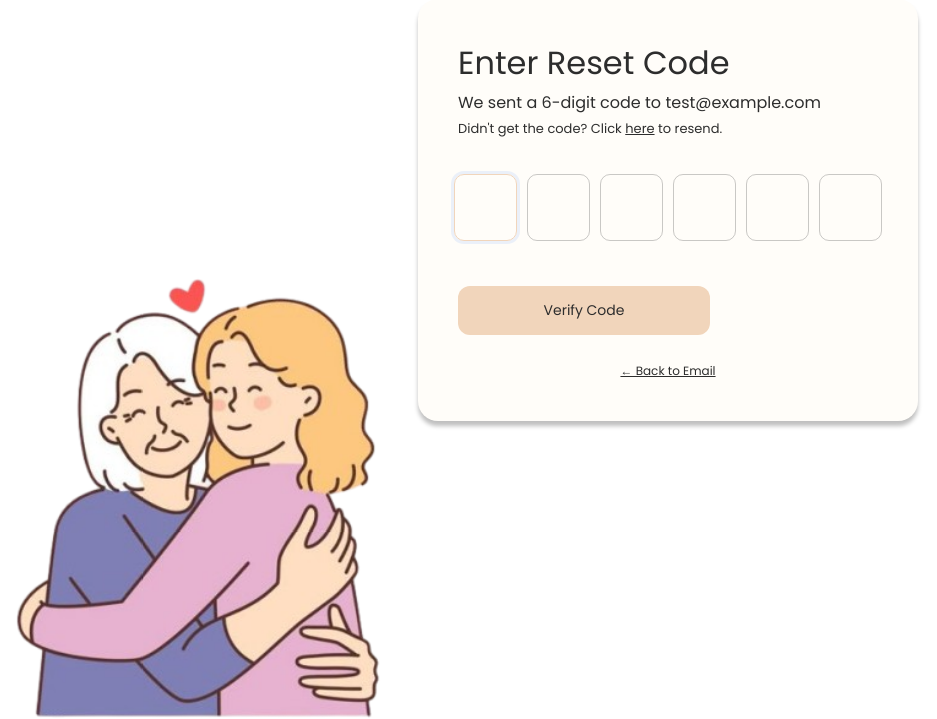
Scenario: ForgotPasswordOTP component › submits OTP and navigates to new password page on success
Type "1" into the 1st field. click: (486, 207)
box: [454,174,517,240]
Type "2" into the 2nd field. click: (558, 207)
box: [527,174,590,240]
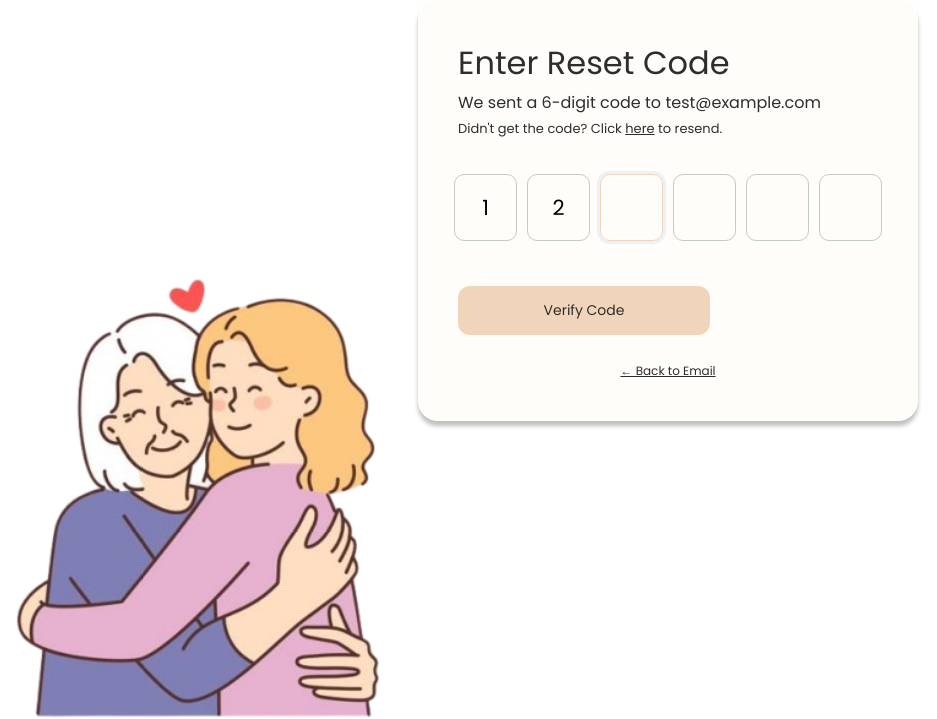
Type "3" into the 3rd field. click: (632, 207)
box: [600,174,663,240]
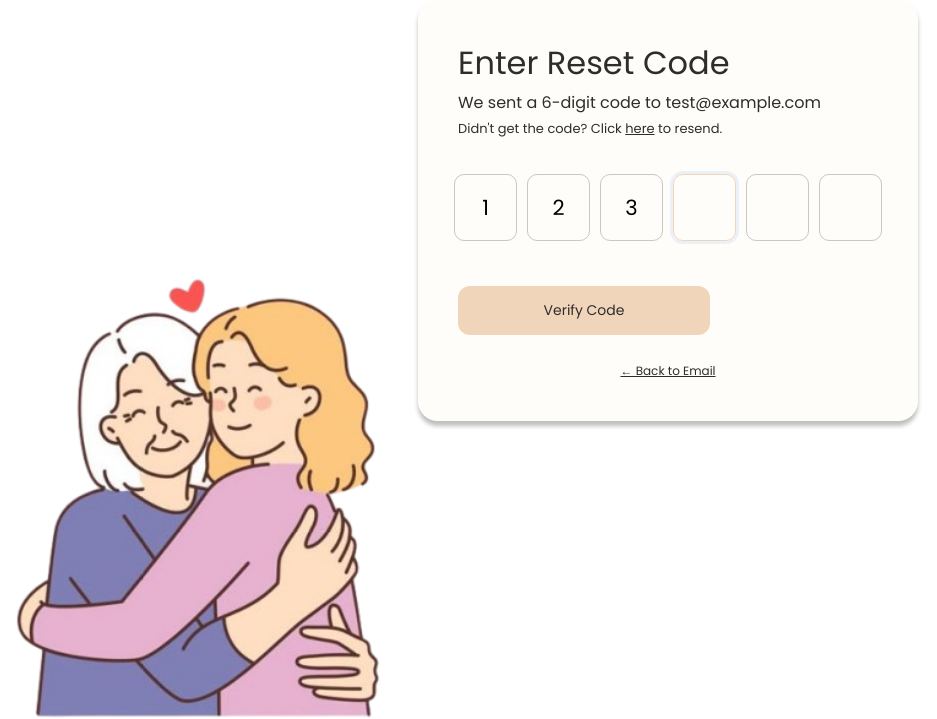
Type "4" into the 4th field. click: (704, 207)
box: [673,174,736,240]
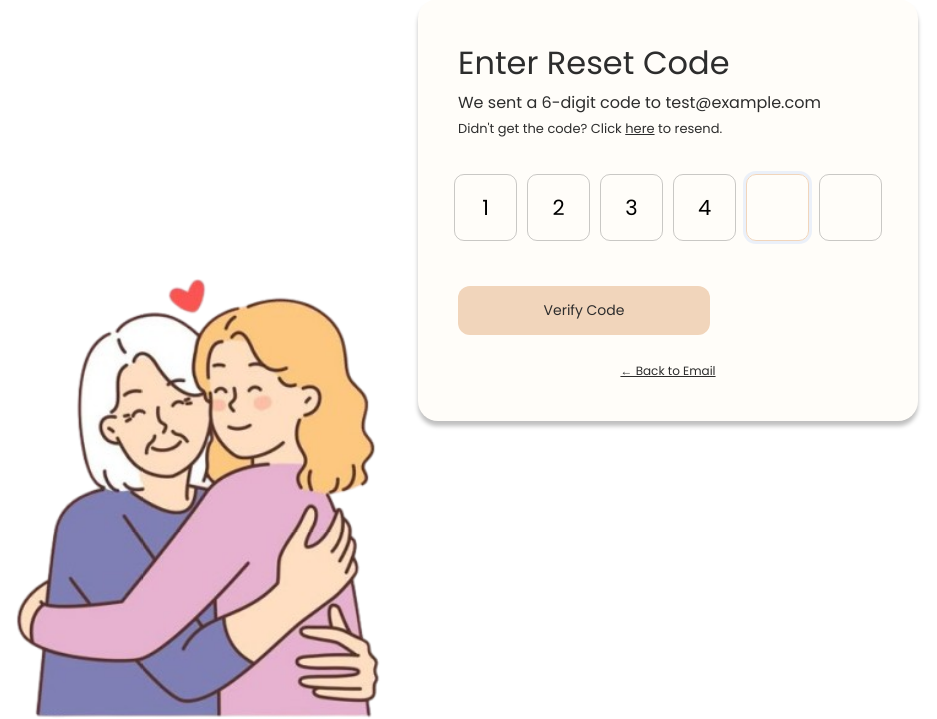
Type "5" into the 5th field. click: (778, 207)
box: [746,174,809,240]
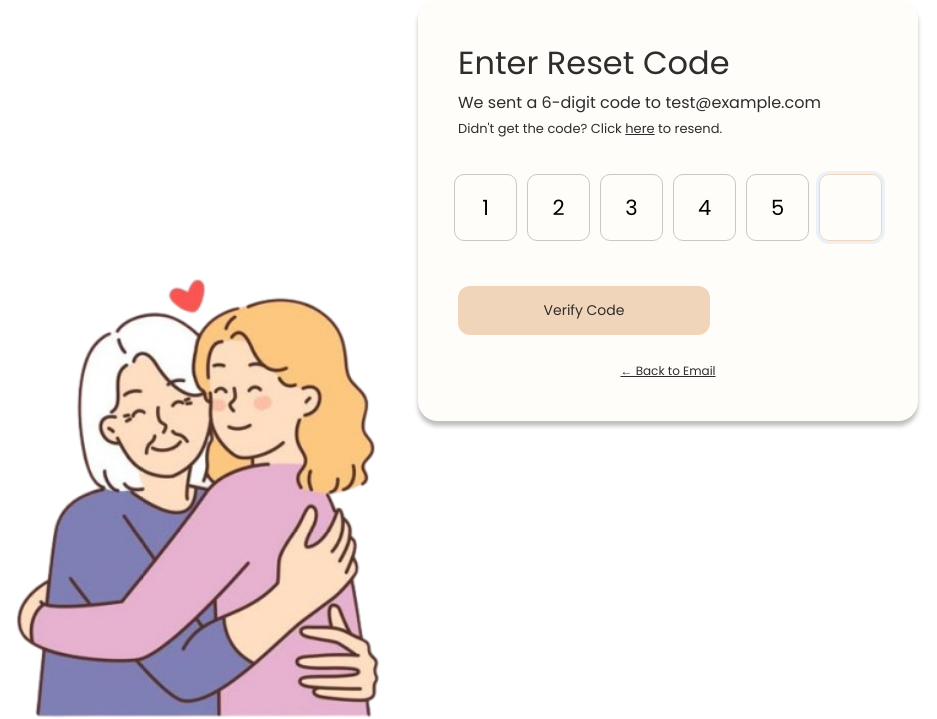
Type "6" into the 6th field. click: (850, 207)
box: [819,174,882,240]
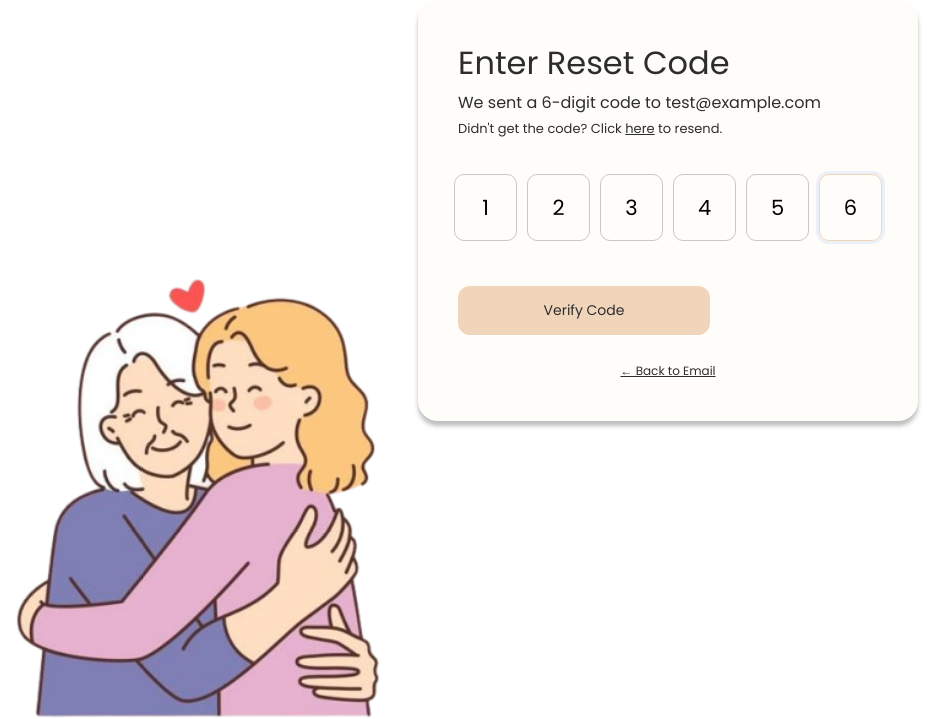
Click the button "Verify Code". click: (584, 310)
box: [458,286,710,334]
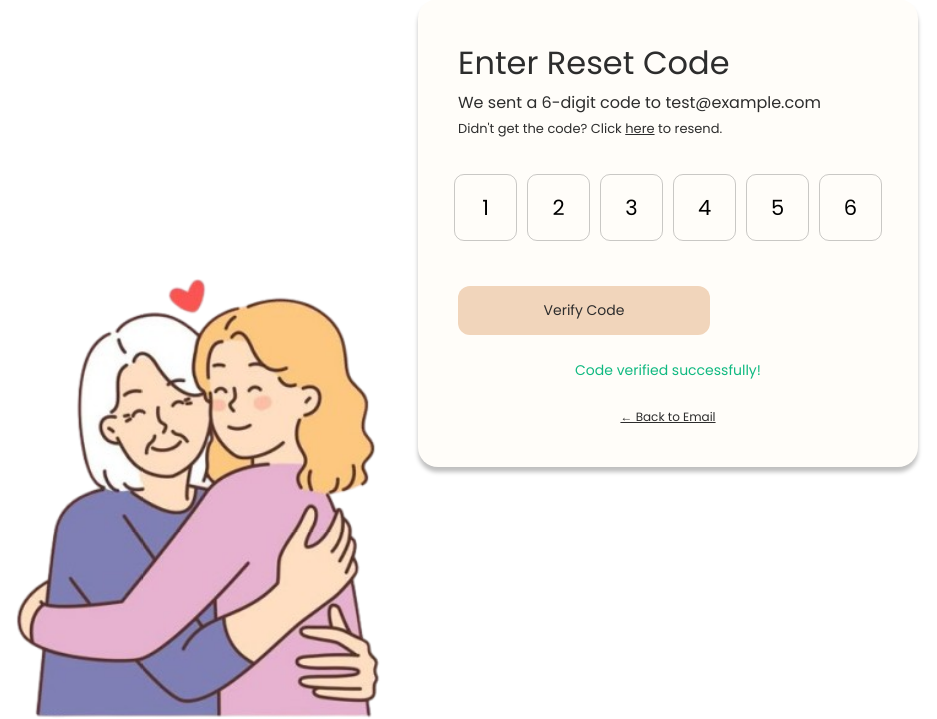
Now the text "Code verified successfully!" is shown, box [575,360,761,380]
